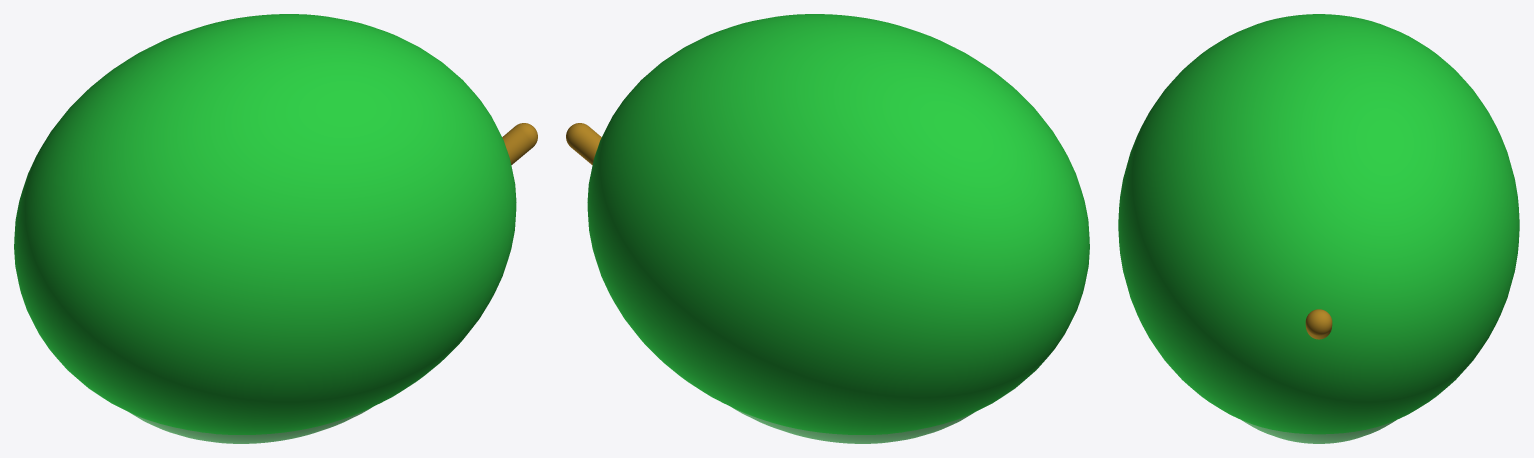
File: watermelon.glb
3 views of the same model, side by side, from view 1: azimuth 30°, elevation 25°; view 2: azimuth 150°, elevation 25°; view 3: azimuth 270°, elevation 25° (orthographic). The views are drawn at different scales.
Parts seen in each view (by area): view 1: Melon, Patch, Stem; view 2: Melon, Patch, Stem; view 3: Melon, Patch, Stem.
Boxes of the visible parts, left/top/right/bottom form: Melon: left=14, top=14, right=516, bottom=434; Patch: left=130, top=407, right=371, bottom=443; Stem: left=502, top=123, right=537, bottom=164; Melon: left=587, top=14, right=1089, bottom=434; Patch: left=732, top=407, right=973, bottom=443; Stem: left=566, top=123, right=601, bottom=164; Melon: left=1118, top=14, right=1519, bottom=434; Patch: left=1241, top=420, right=1396, bottom=443; Stem: left=1305, top=309, right=1332, bottom=339.
Size of the model in its own units: 0.415 by 0.31 by 0.3.
